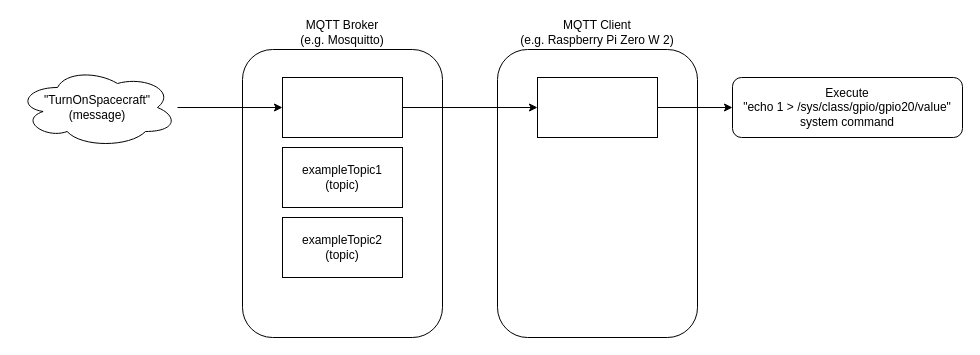
The diagram is 980 pixels wide and 355 high, and some of its shapes have lost their labels. The shapes that lost their labels are listed below. From the top down, each one's centre as x and y in pixels, then its label:
At point (342, 107): "mqtt2exec (topic)".
At point (597, 107): "Example application (with implemented mqtt2exec library)".
